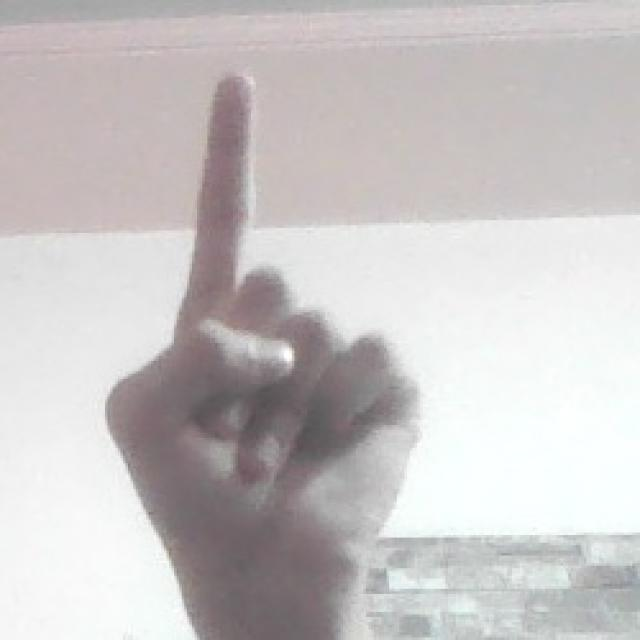Numeric-1: (100, 66, 418, 616)
